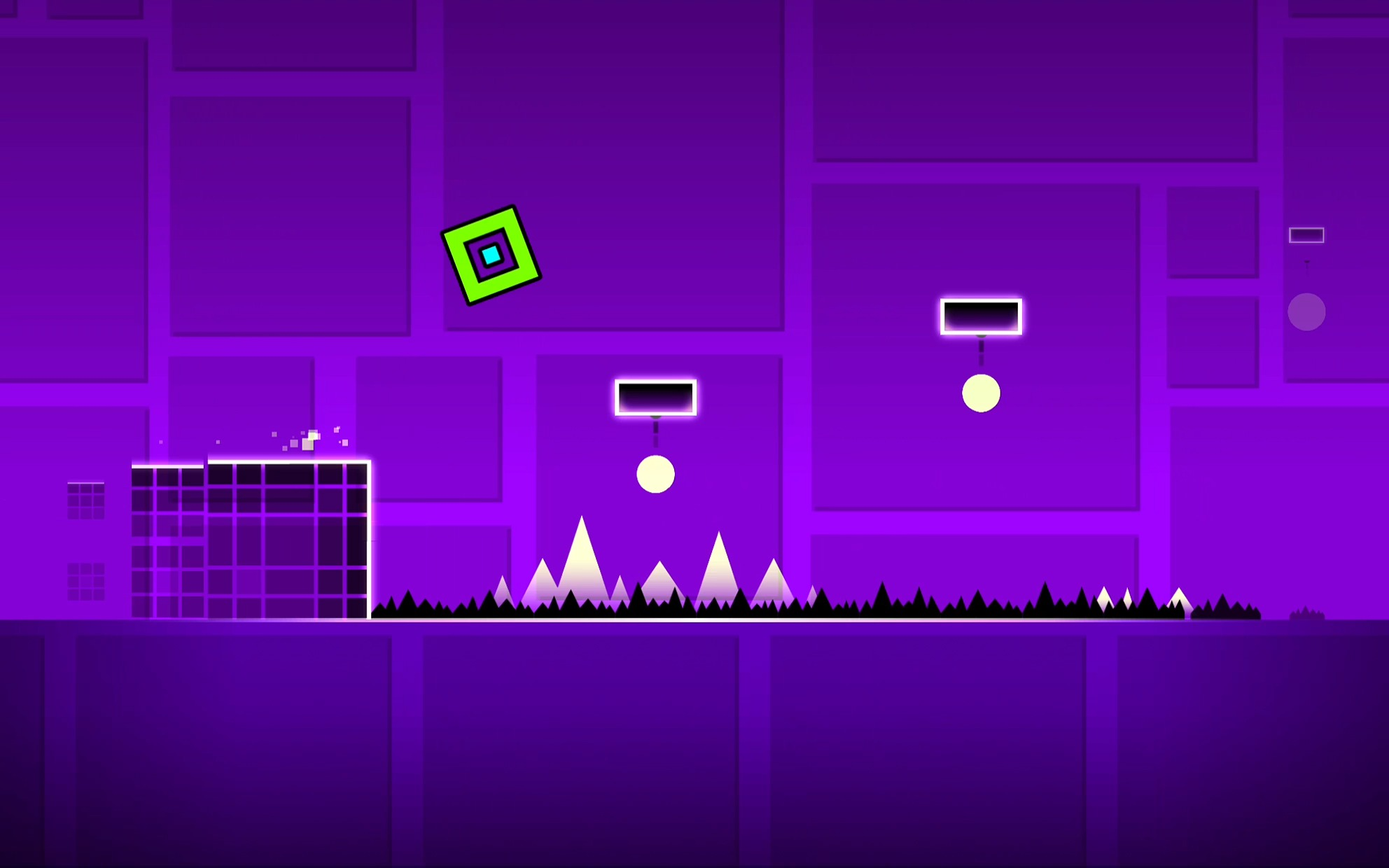Block2: (132, 463, 370, 617)
Block3: (939, 298, 1025, 333), (613, 379, 696, 414)
Player: (444, 205, 541, 302)
Spike2: (369, 581, 1359, 621)
